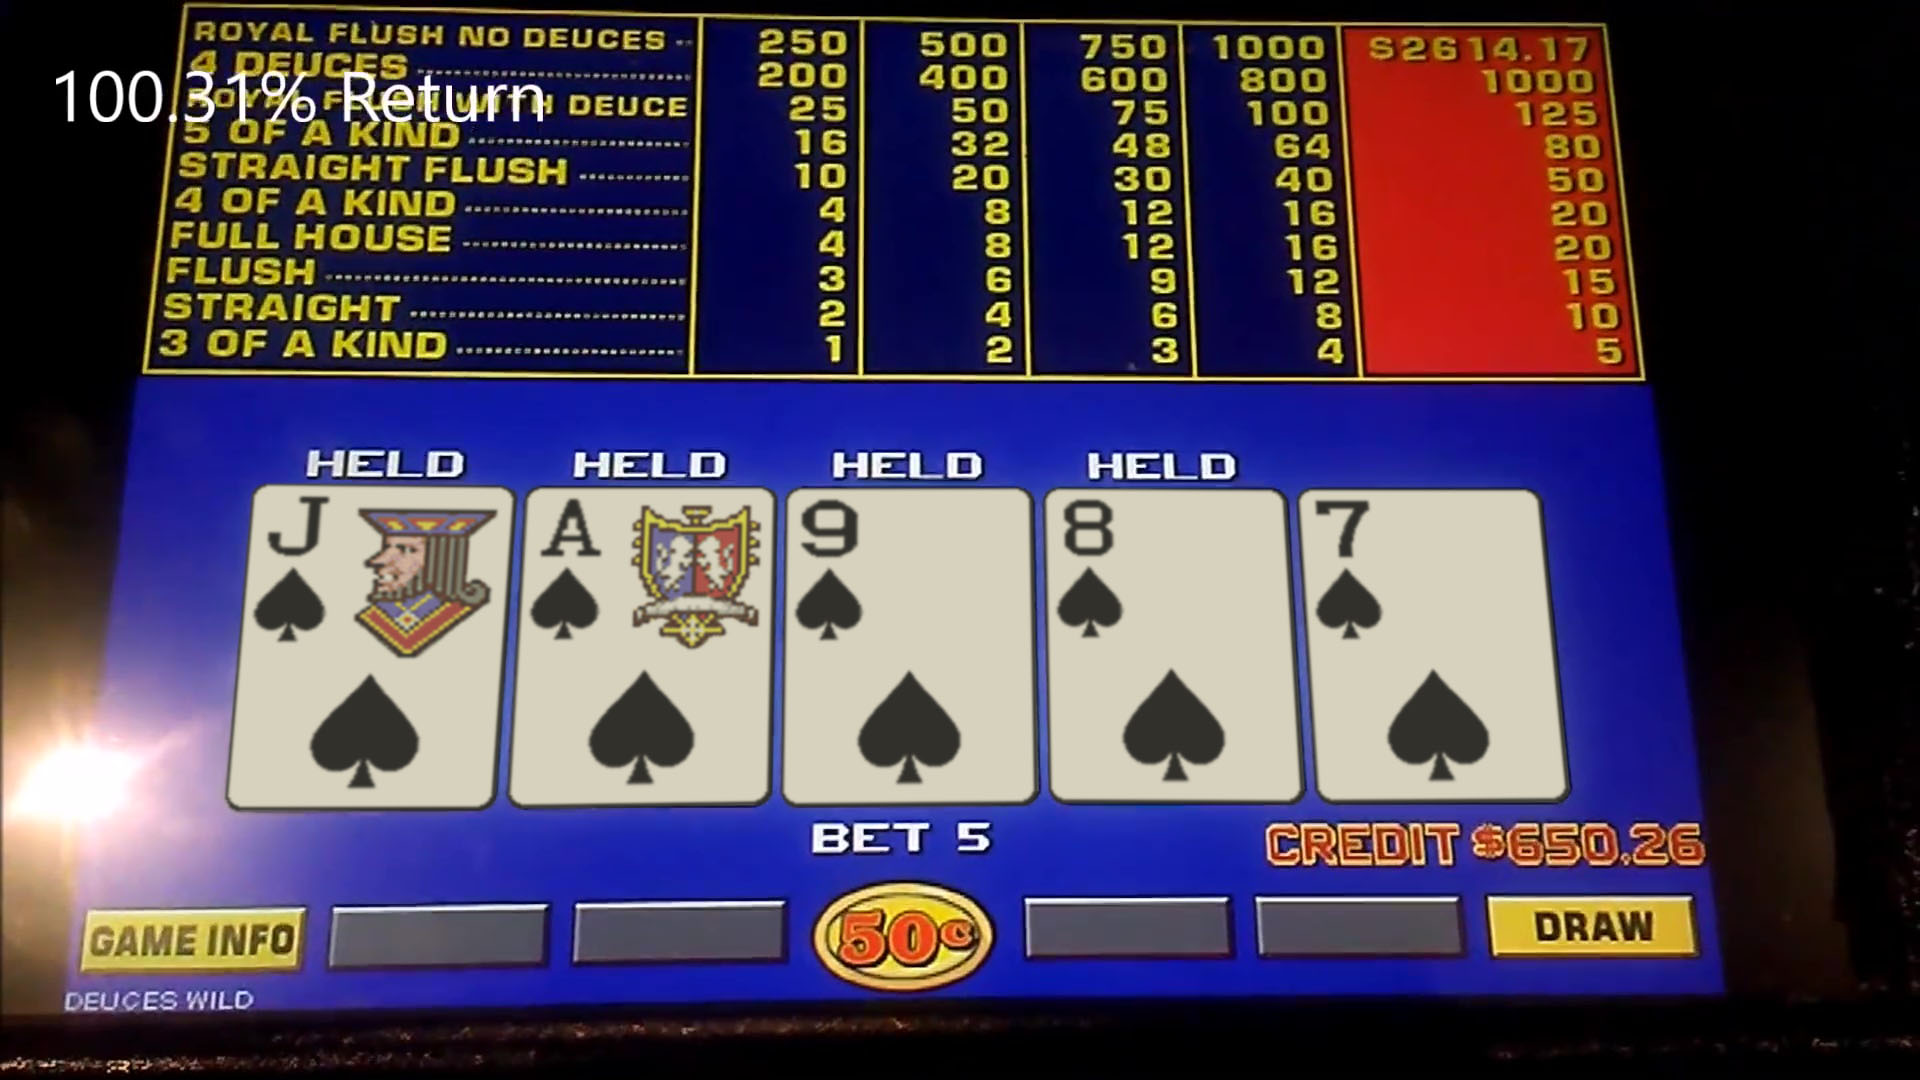S7: (1313, 492, 1549, 802)
S8: (1048, 492, 1290, 800)
S9: (786, 489, 1035, 803)
SA: (517, 491, 764, 802)
SJ: (247, 487, 498, 808)
